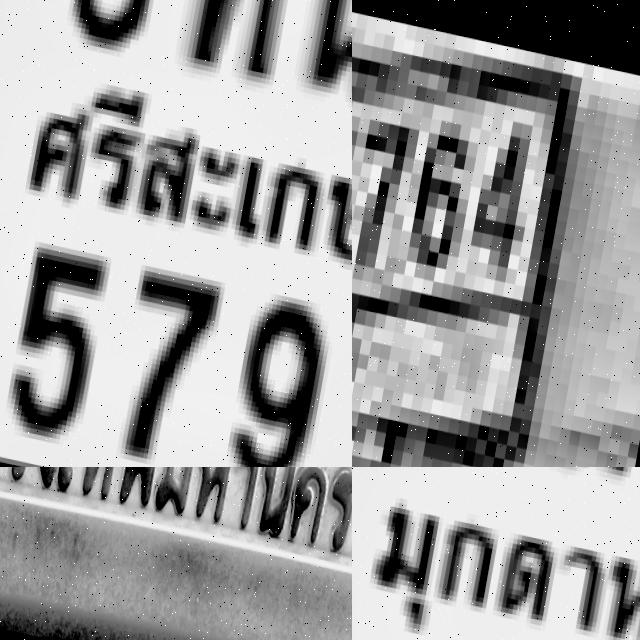license-plate: (0, 0, 352, 467), (352, 0, 622, 467), (0, 467, 352, 640), (352, 467, 640, 640)
